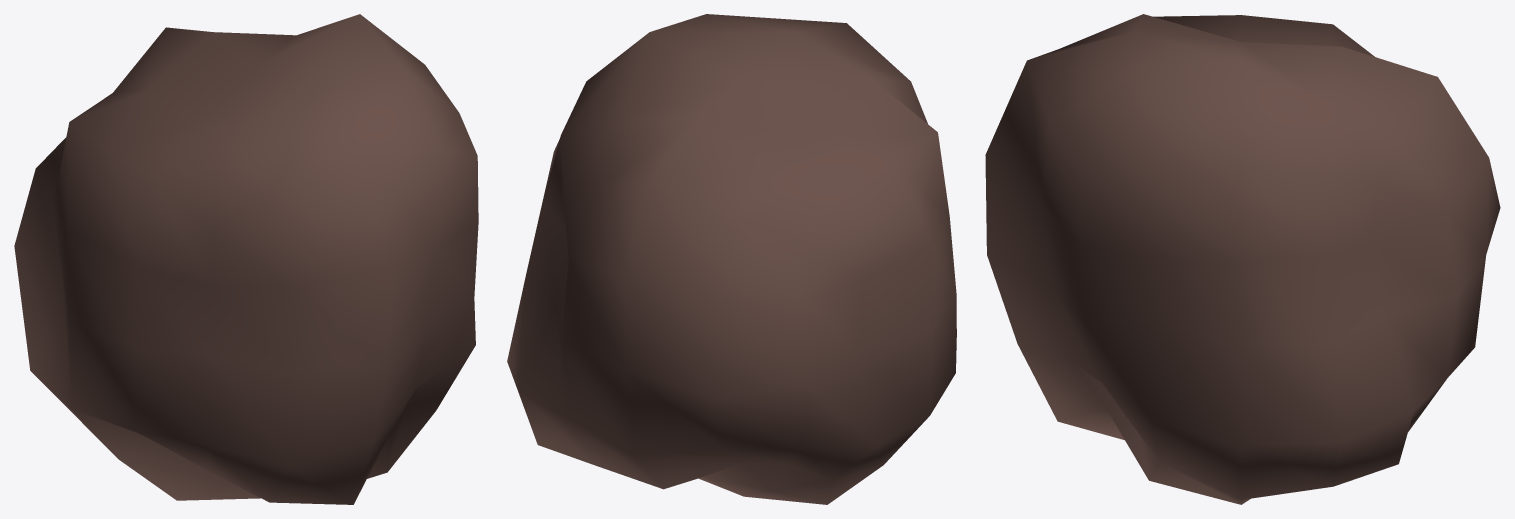
The model's file is Rock type 3.glb.
The picture shows the model from 3 angles, left to right: view 1: azimuth 30°, elevation 25°; view 2: azimuth 150°, elevation 25°; view 3: azimuth 270°, elevation 25°; orthographic projection. The views are drawn at different scales.
Parts seen in each view (by area): view 1: Cube; view 2: Cube; view 3: Cube.
Part boxes in pixels (x1,y1,x2,y2): Cube: [14, 14, 478, 504]; Cube: [507, 14, 956, 504]; Cube: [985, 14, 1500, 504].
Bounding box in the file's own units: 0.1849 × 0.2035 × 0.2062.
1 material, 1 textured.
